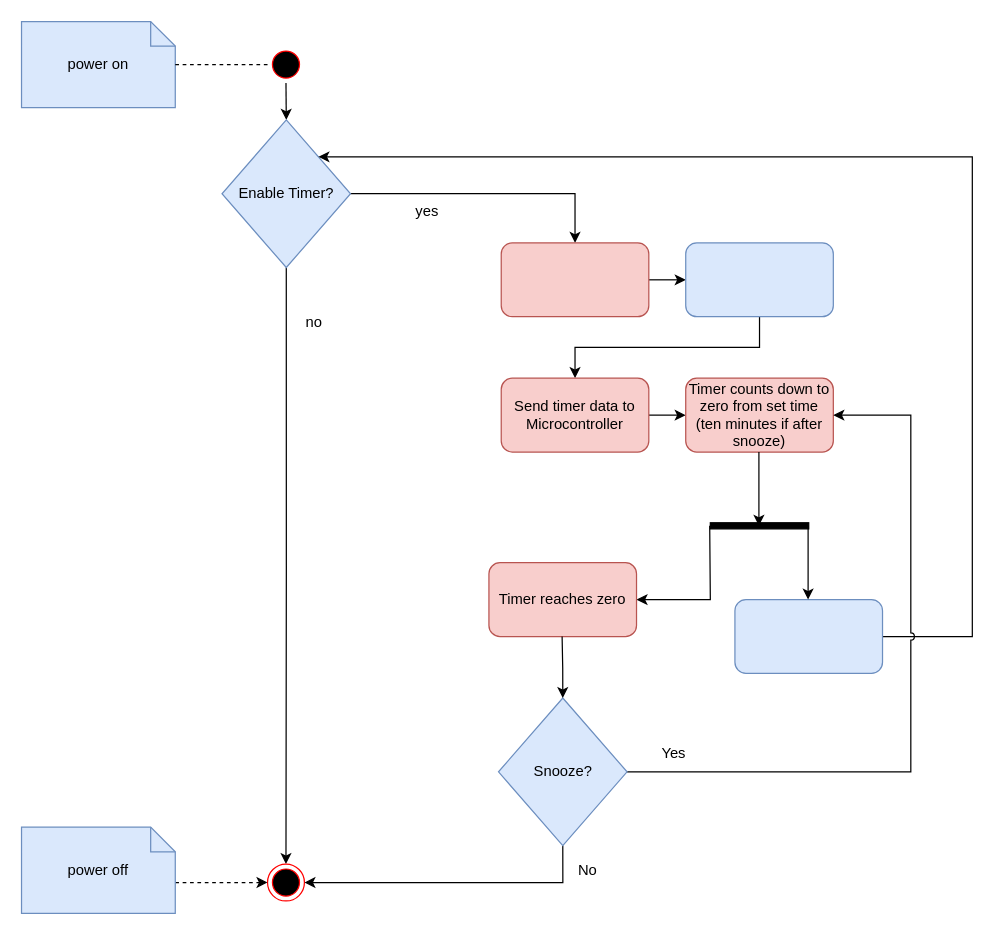
Image size: 1004x935. Some labels were removed from this diagram. The shapes that lost their labels are listed below. From the top down, each one's centre as x and y in pixels, then its label:
the point at 574,279: Defaults to timer from last session or 0:00 if no last session
the point at 758,279: Approve timer
the point at 808,635: Turn off timer
